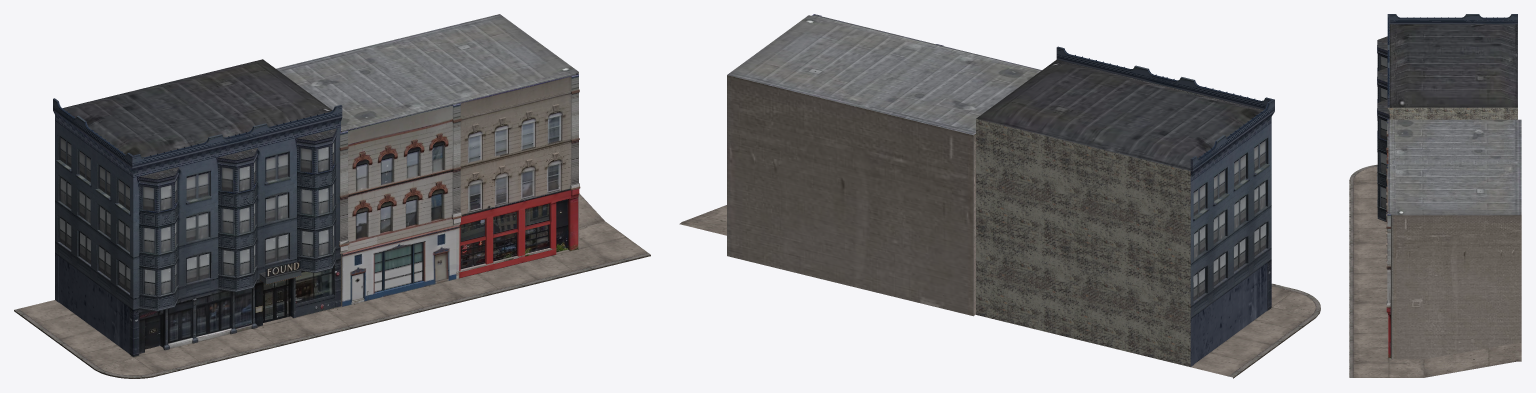
File: realistic_chicago_buildings.glb
3 views of the same model, side by side, from view 1: azimuth 30°, elevation 25°; view 2: azimuth 150°, elevation 25°; view 3: azimuth 270°, elevation 25° (orthographic). The views are drawn at different scales.
Parts seen in each view (by area): view 1: Object_6, Object_12, Object_4; view 2: Object_12, Object_8, Object_6, Object_4; view 3: Object_12, Object_6, Object_4, Object_8.
Part boxes in pixels (x1,y1,x2,y2): Object_6: (53, 59, 342, 356); Object_12: (276, 14, 580, 306); Object_4: (14, 193, 650, 378); Object_12: (727, 14, 1041, 316); Object_8: (976, 119, 1190, 366); Object_6: (976, 46, 1274, 366); Object_4: (679, 205, 1320, 378); Object_12: (1386, 119, 1521, 359); Object_6: (1377, 14, 1517, 221); Object_4: (1349, 164, 1521, 377); Object_8: (1388, 107, 1517, 119).
Bounding box in the file's own units: 198 × 71.86 × 67.27.
5 materials, 5 textured.
